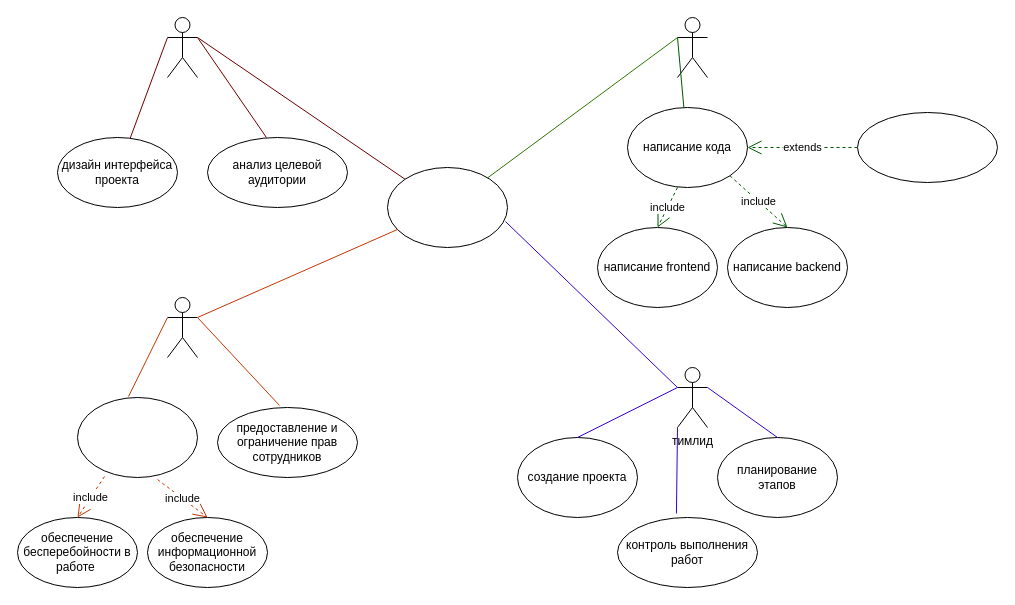
Image size: 1015x605. Some labels were removed from this diagram. Here are the shapes that lost their labels. From the top down, the centre of each, then its label:
At point 182,47: "дизайнер".
At point 692,47: "программист".
At point 927,147: "написание тестов".
At point 447,207: "согласование этапов и сроков выполнения".
At point 182,327: "сисадмин".
At point 137,437: "контроль работы серверов".
